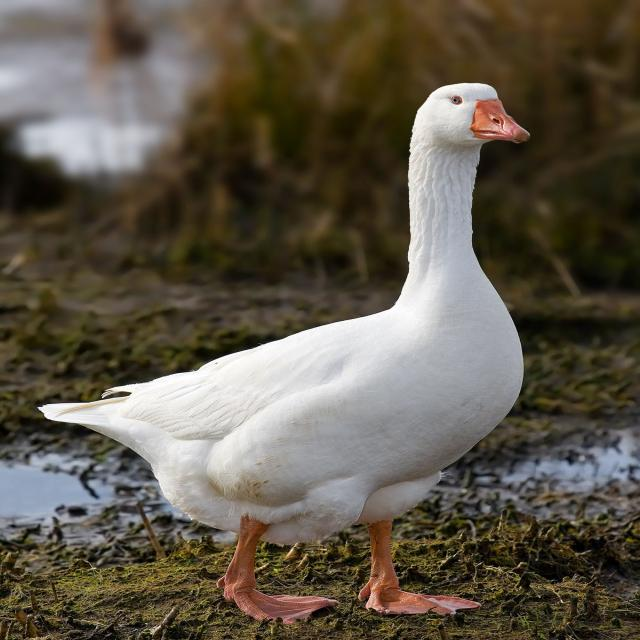Goose: (41, 76, 537, 624)
